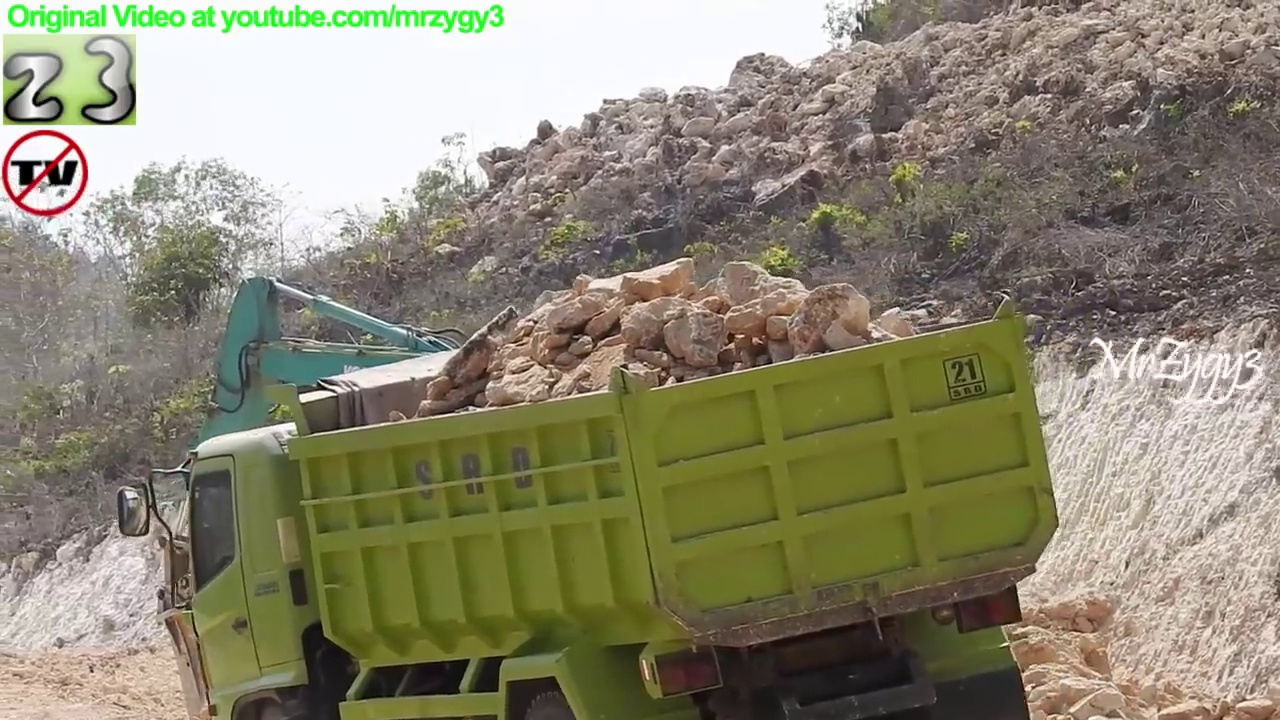excavator: (133, 268, 871, 720)
truck: (112, 289, 1072, 720)
